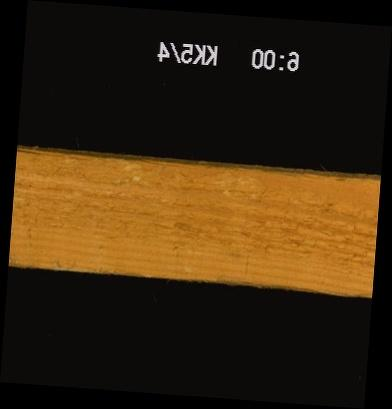split: (16, 148, 91, 160), (132, 158, 198, 168)
